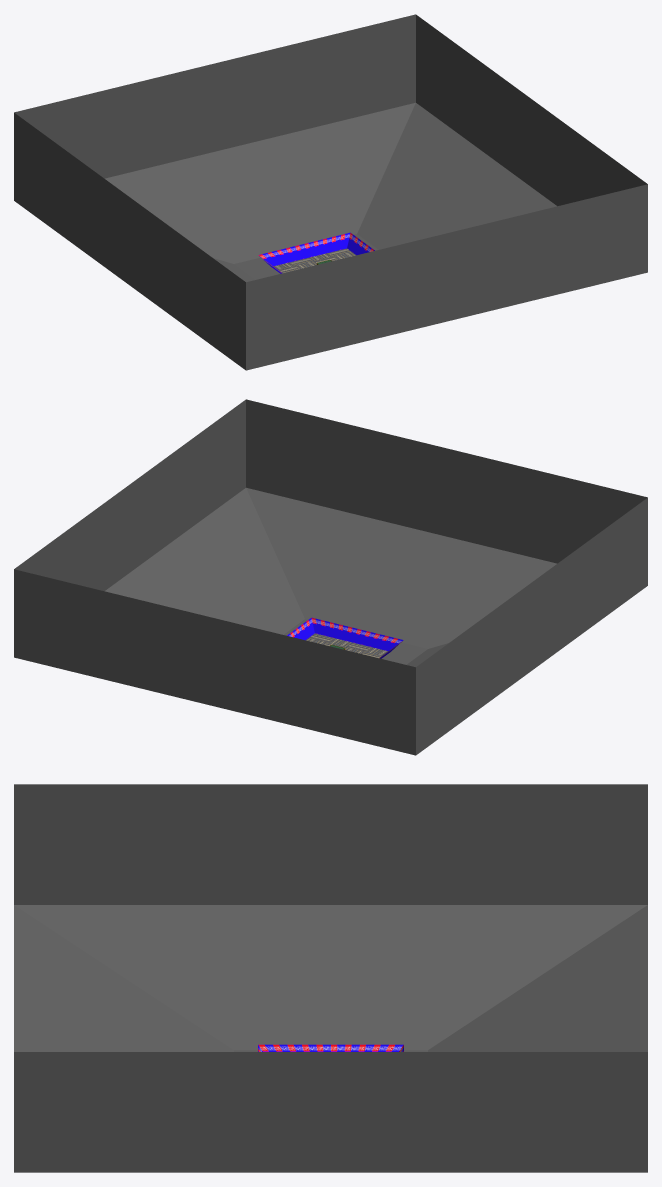
File: cp_sala_snooker.glb
The picture shows the model from 3 angles, top to bottom: view 1: azimuth 30°, elevation 25°; view 2: azimuth 150°, elevation 25°; view 3: azimuth 270°, elevation 25°; orthographic projection. The views are drawn at different scales.
Visible parts, largest first — view 1: pPlane2, pPlane1; view 2: pPlane2, pPlane1; view 3: pPlane2, pPlane1.
Part boxes in pixels (box(x1,y1,x2,y2)): pPlane2: box(14, 14, 647, 370); pPlane1: box(258, 232, 374, 273); pPlane2: box(14, 399, 647, 755); pPlane1: box(287, 617, 403, 658); pPlane2: box(14, 784, 647, 1172); pPlane1: box(258, 1044, 403, 1051).
Size of the model in its own units: 5541 by 1670 by 5541.
14 materials, 3 textured.
